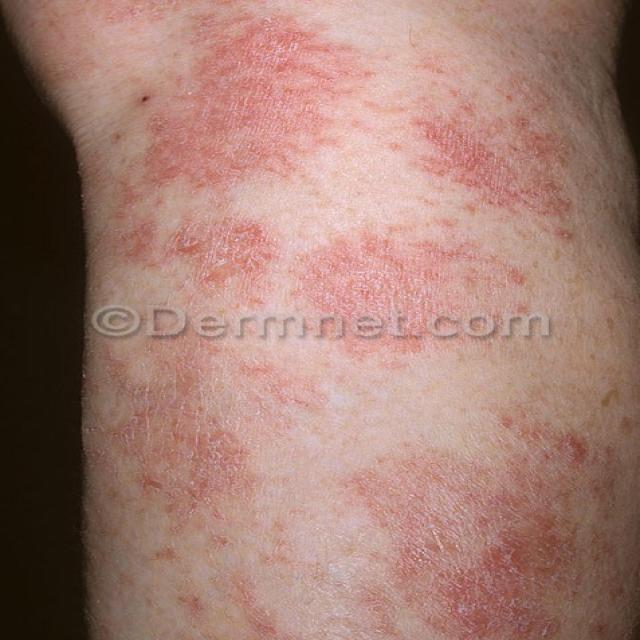Eczema: (93, 0, 596, 621)
